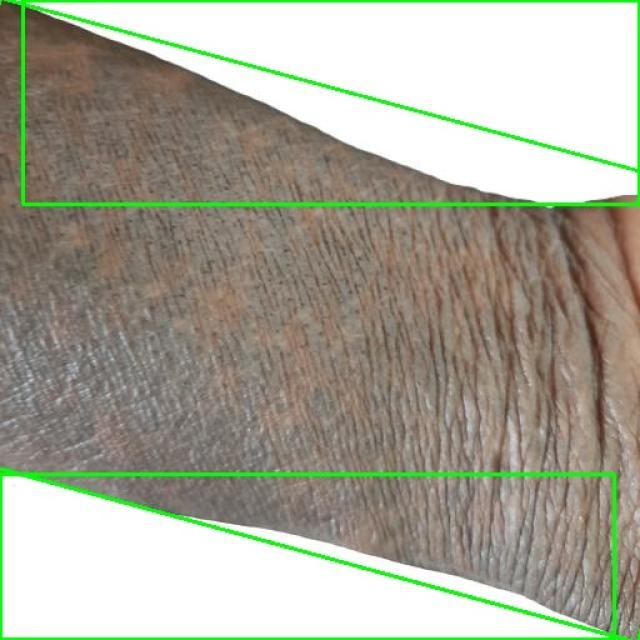Eczema: (0, 0, 640, 640), (22, 0, 639, 204), (0, 474, 614, 639)
